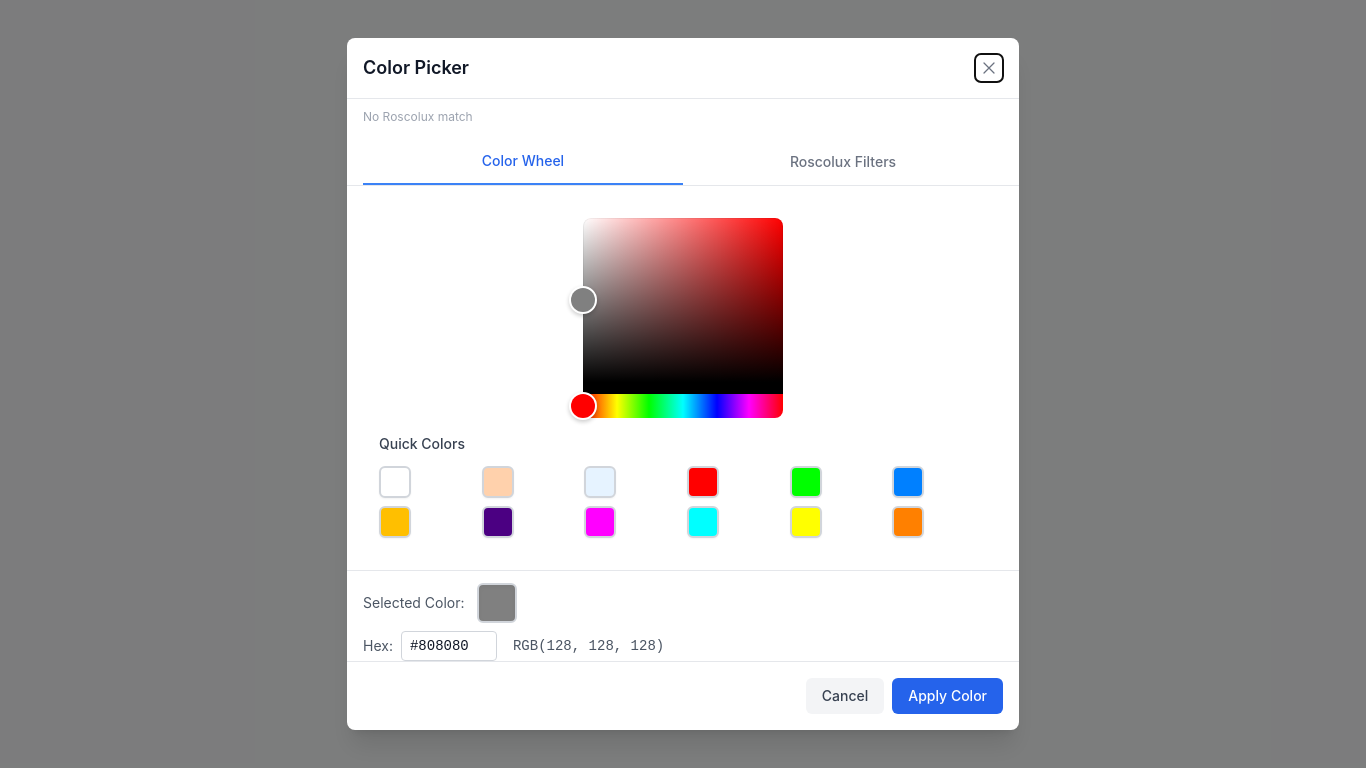
it: ColorPickerModal › hex input › resets to valid hex on blur if invalid
Clear the field showing "#808080": (449, 646) [401, 631, 497, 661]
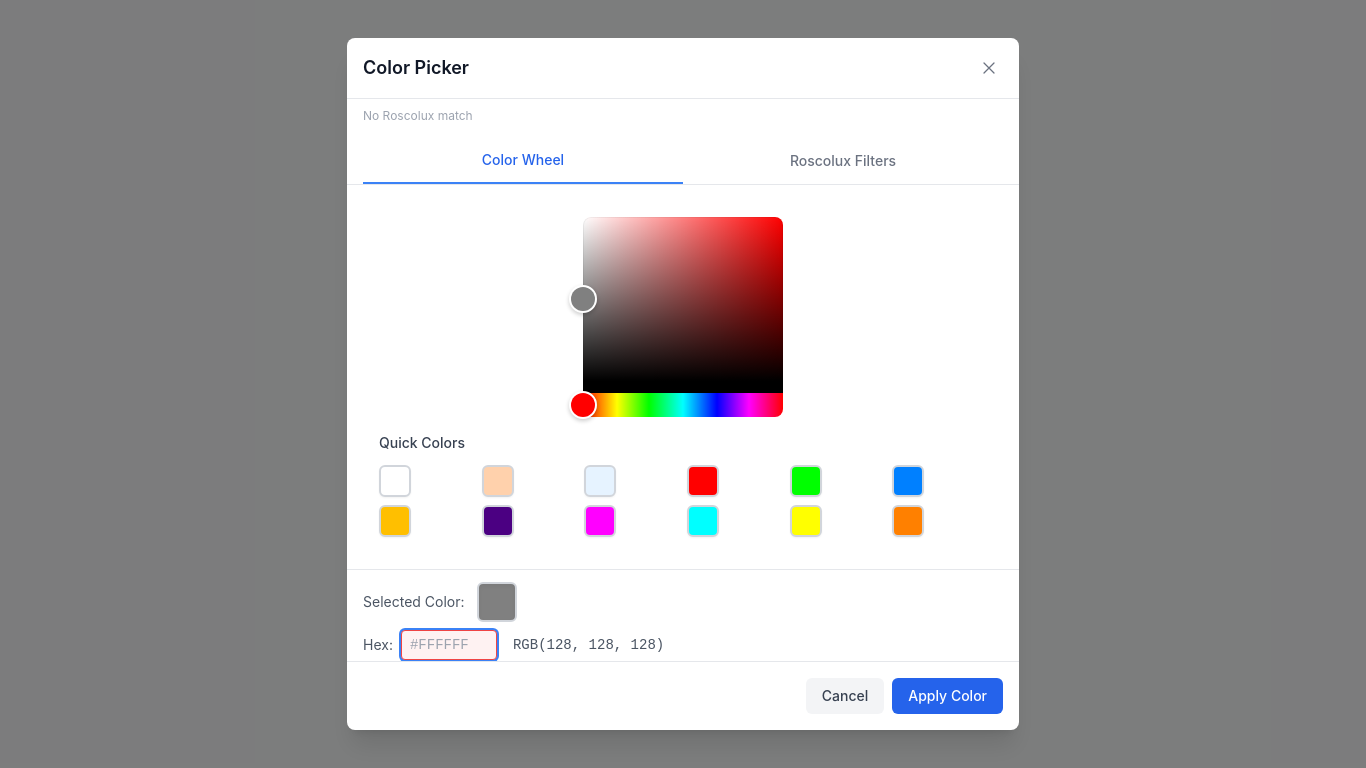
In the field showing "#808080": (449, 645) [401, 630, 497, 660], type "invalid"
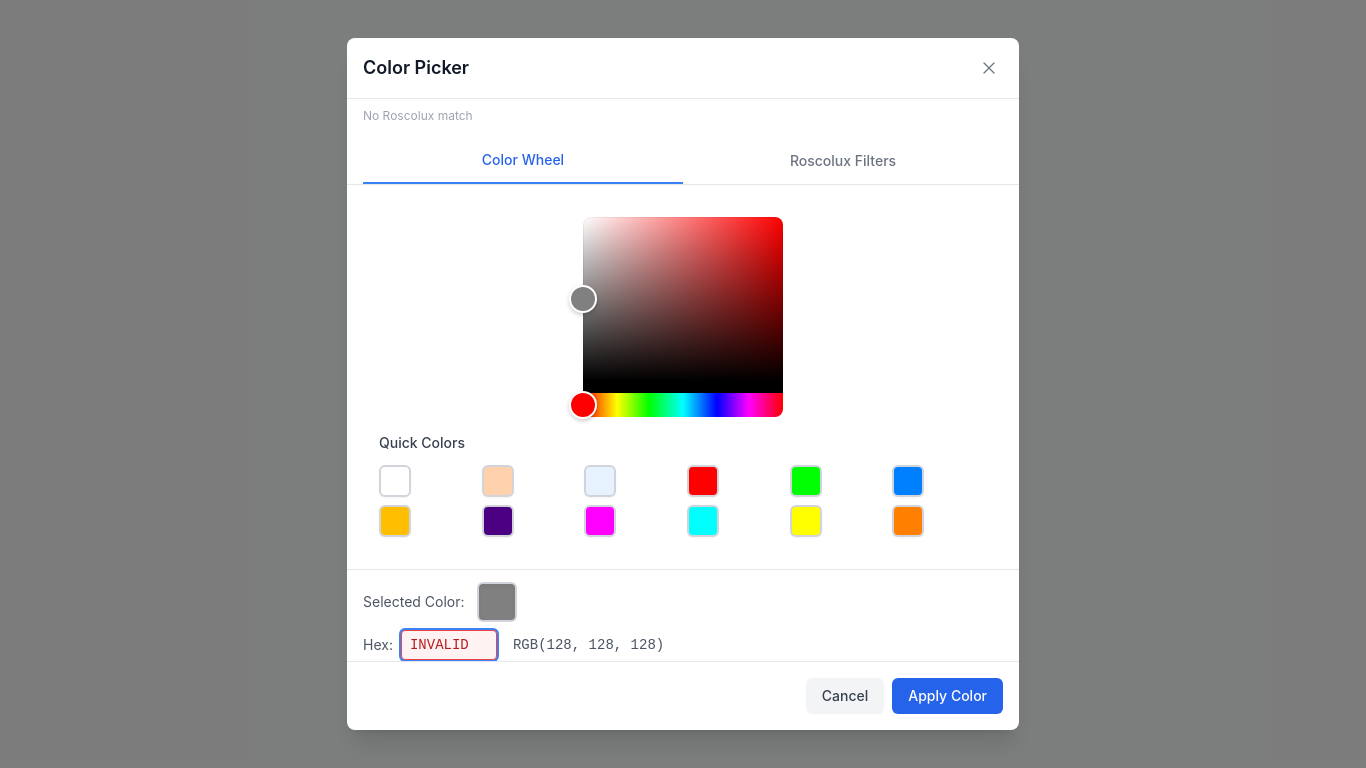
Press Tab
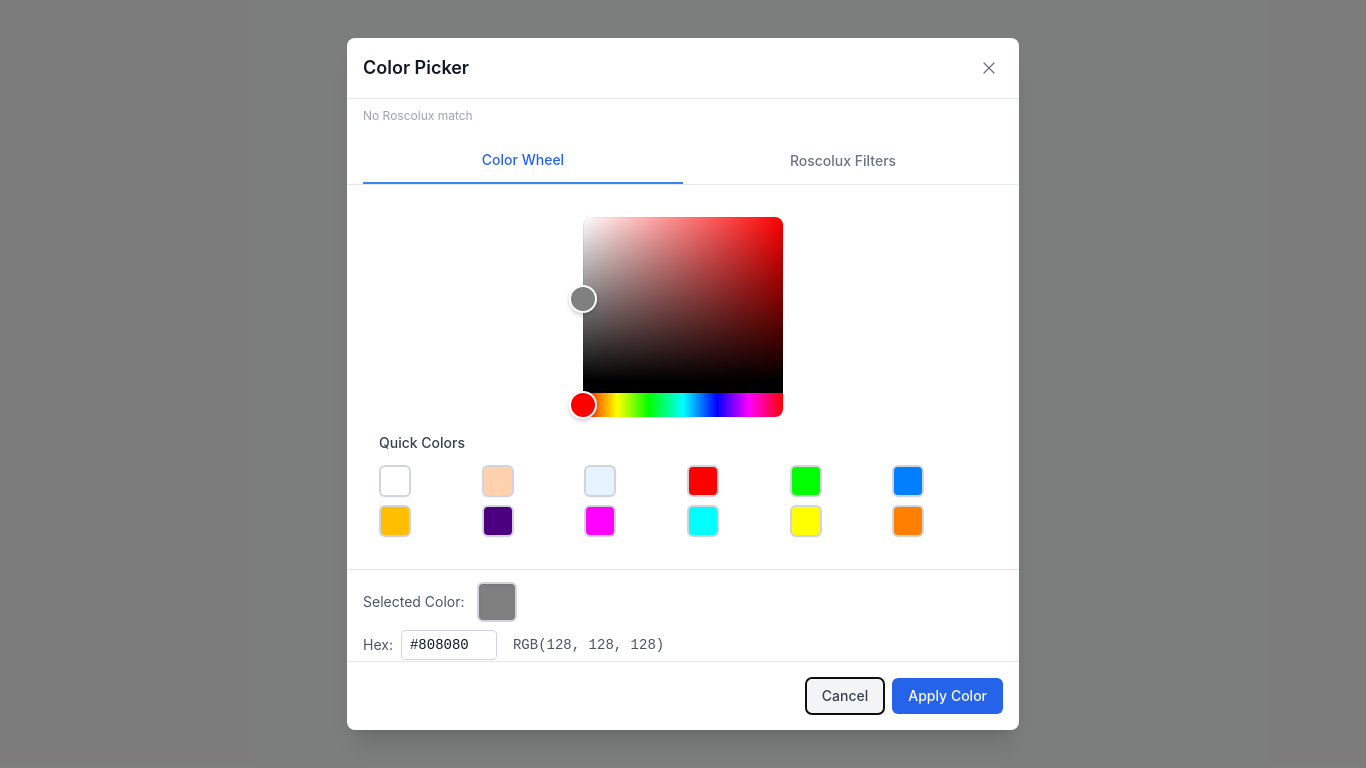
expect the field showing "#808080" holds "#808080": met, box [401, 630, 497, 660]
